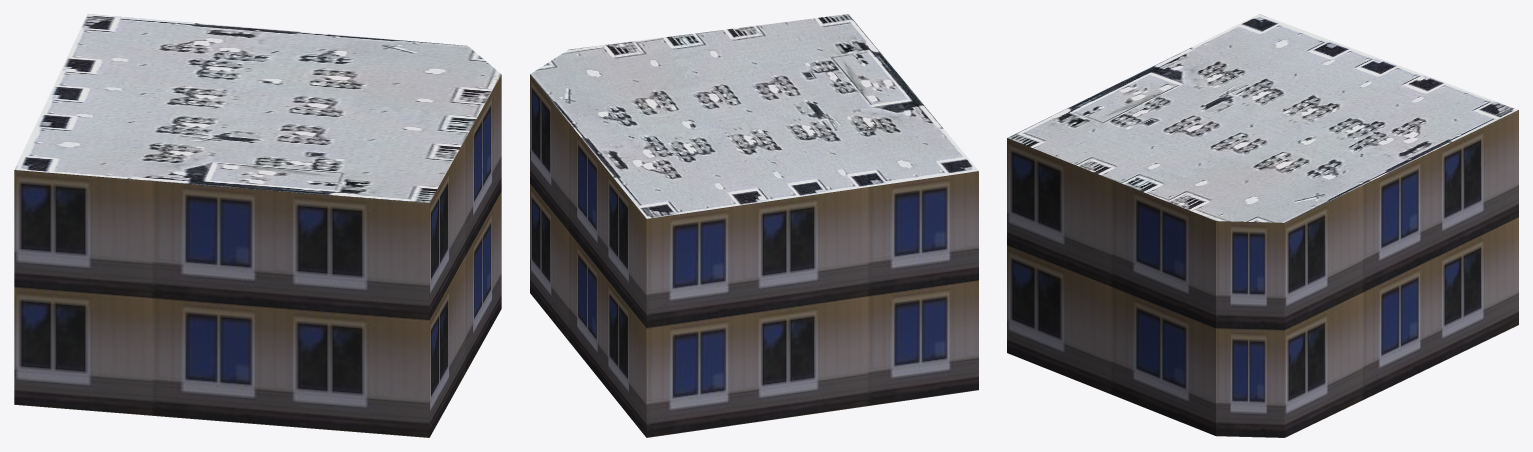
The model's file is ResTex__2346.fbx.
The picture shows the model from 3 angles, left to right: view 1: azimuth 30°, elevation 25°; view 2: azimuth 150°, elevation 25°; view 3: azimuth 270°, elevation 25°; orthographic projection. The views are drawn at different scales.
Visible parts, largest first — view 1: CityEngineMaterial_5_m, CityEngineMaterial_2_m; view 2: CityEngineMaterial_5_m, CityEngineMaterial_2_m; view 3: CityEngineMaterial_5_m, CityEngineMaterial_2_m.
Part boxes in pixels (bbox=[...]): CityEngineMaterial_5_m: bbox=[14, 74, 501, 437]; CityEngineMaterial_2_m: bbox=[14, 14, 501, 202]; CityEngineMaterial_5_m: bbox=[530, 74, 978, 437]; CityEngineMaterial_2_m: bbox=[530, 14, 978, 218]; CityEngineMaterial_5_m: bbox=[1007, 110, 1518, 437]; CityEngineMaterial_2_m: bbox=[1007, 14, 1518, 222].
Size of the model in its own units: 12.5 by 6 by 12.94.
2 materials, 2 textured.
